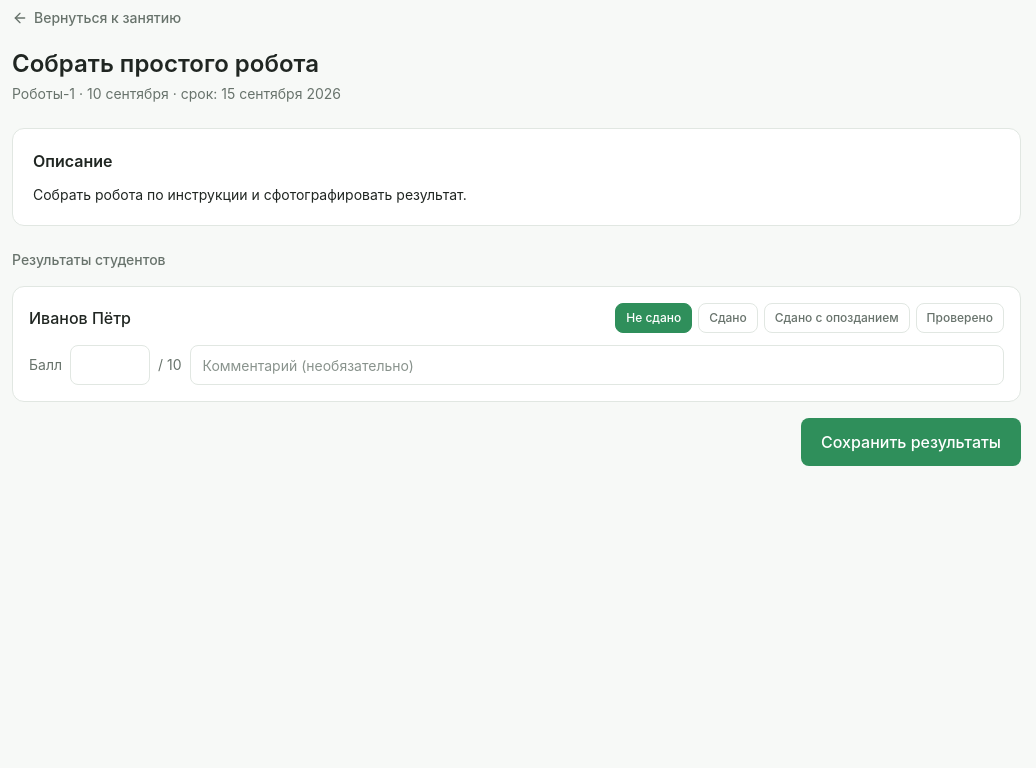
Test: HomeworkDetailPage › shows an error toast and stays put when saving fails
Check: the text "Иванов Пётр" is shown, box [29, 306, 131, 330]
Click the button "Сохранить результаты". click: (911, 442)
box: [801, 418, 1021, 466]
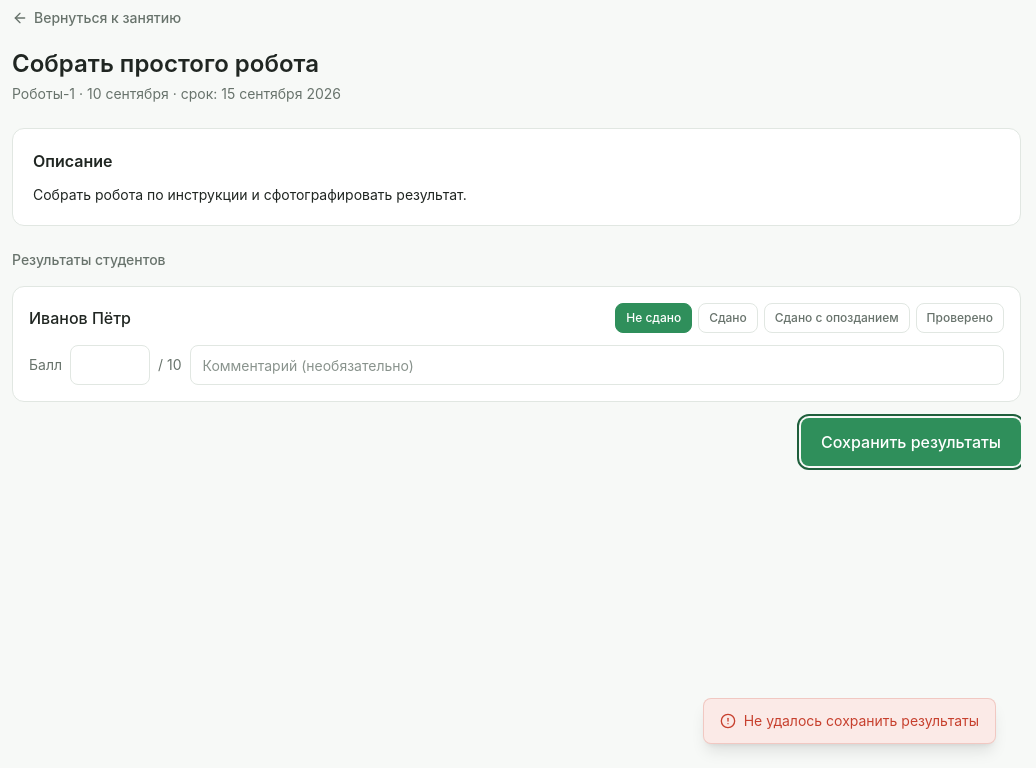
Check: the text "Не удалось сохранить результаты" is shown, box [744, 711, 979, 731]
